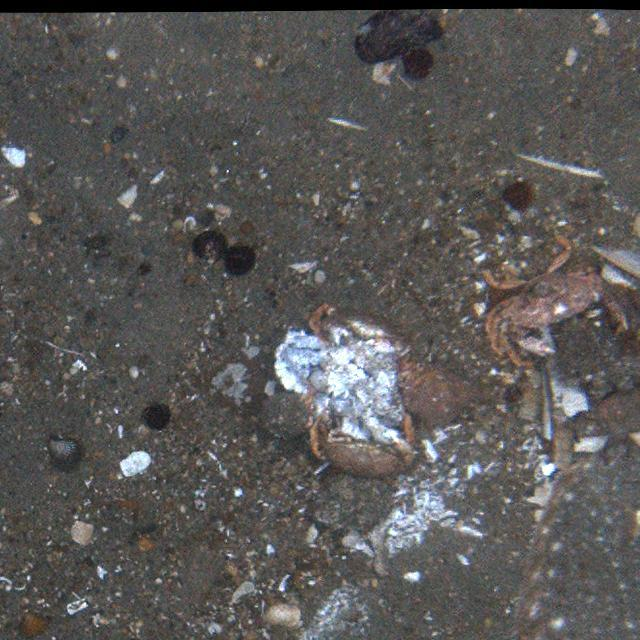crab: (479, 242, 602, 368), (304, 412, 414, 483)
